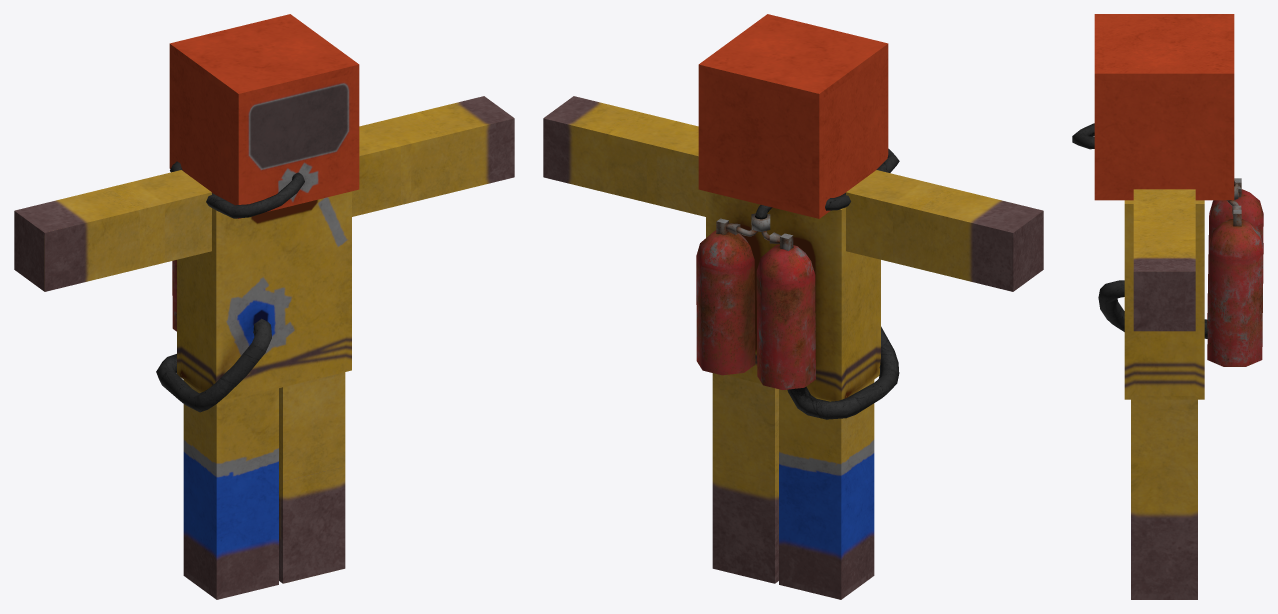
Rendered from HazmatReworked.fbx.
3 renders of one model, left to right at view 1: azimuth 30°, elevation 25°; view 2: azimuth 150°, elevation 25°; view 3: azimuth 270°, elevation 25°, orthographic.
Parts seen in each view (by area): view 1: HzmatHead, HazmatBody, HazmatLegs, HazmatHands; view 2: HazmatBody, HzmatHead, HazmatLegs, HazmatHands; view 3: HzmatHead, HazmatBody, HazmatLegs, HazmatHands.
Part boxes in pixels (left/top/right/bottom): HzmatHead: left=169, top=14, right=359, bottom=218; HazmatBody: left=156, top=191, right=351, bottom=412; HazmatLegs: left=183, top=372, right=345, bottom=599; HazmatHands: left=14, top=96, right=514, bottom=291; HazmatBody: left=696, top=191, right=899, bottom=419; HzmatHead: left=698, top=14, right=899, bottom=218; HazmatLegs: left=712, top=373, right=874, bottom=599; HazmatHands: left=543, top=96, right=1043, bottom=291; HzmatHead: left=1072, top=14, right=1234, bottom=200; HazmatBody: left=1098, top=178, right=1263, bottom=399; HazmatLegs: left=1131, top=399, right=1197, bottom=599; HazmatHands: left=1133, top=189, right=1195, bottom=331.
Size of the model in its own units: 172 by 182 by 60.01.
